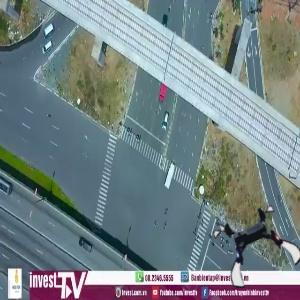drone: (220, 208, 299, 287)
